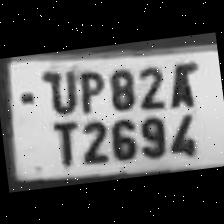2: (74, 114, 110, 167), (131, 60, 167, 110)
4: (162, 105, 202, 158)
6: (103, 113, 139, 163)
8: (100, 63, 136, 113)
9: (133, 110, 167, 160)
A: (160, 57, 200, 108)
P: (70, 62, 108, 114)
T: (43, 114, 82, 170)
U: (38, 65, 78, 116)
